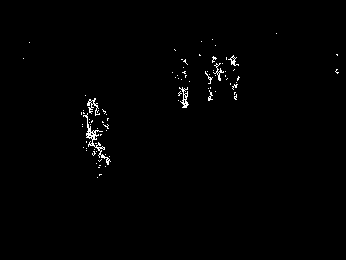person: (82, 96, 112, 172)
